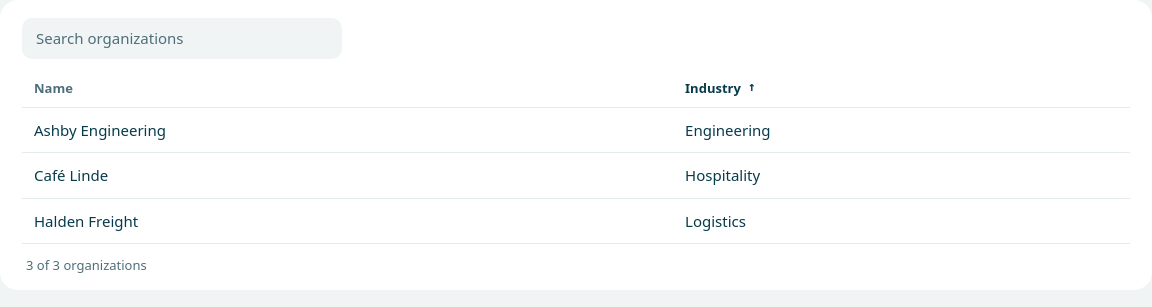
Scenario: search matches shown text, ignoring case and accents typed in capitals
The image size is (1152, 307).
Expected: the text "3 of 3 organizations" is shown, [26, 256, 147, 274]
Type "CAFÉ" into the search field at (182, 38), box [22, 18, 342, 58]
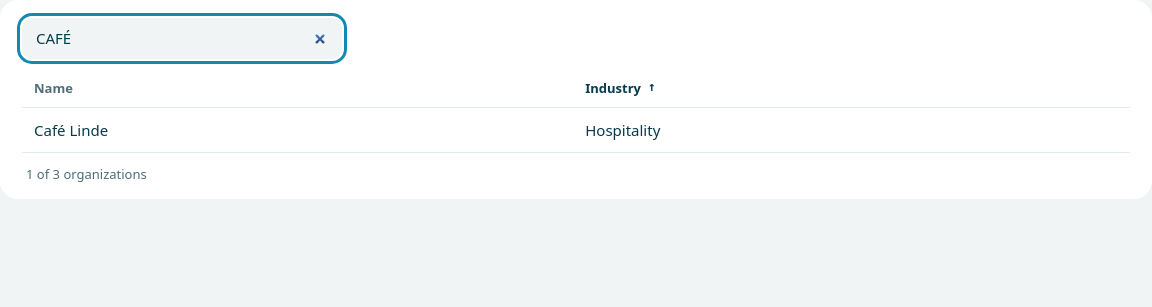
Expected: the text "1 of 3 organizations" is shown, [26, 165, 147, 183]
